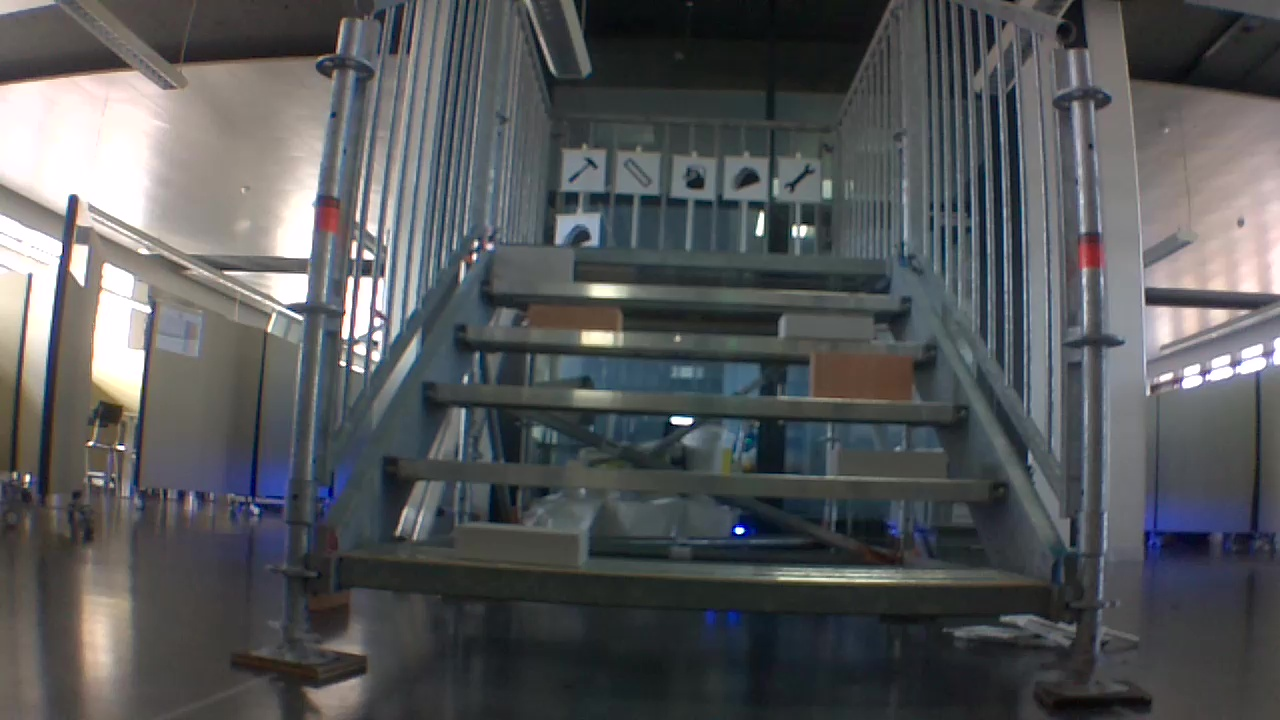brick: (457, 523, 587, 567), (810, 355, 911, 401), (827, 450, 948, 481), (778, 314, 873, 340), (499, 247, 571, 279), (532, 305, 621, 329)
bucket: (679, 163, 709, 193)
edge: (337, 557, 1049, 619), (379, 457, 1009, 512), (420, 381, 970, 425), (453, 325, 934, 363), (481, 279, 911, 313), (498, 245, 889, 275)
hammer: (563, 153, 597, 185)
ruler: (619, 156, 655, 190)
stairs: (230, 4, 1155, 713)
steps: (329, 237, 1065, 634)
taco: (731, 162, 763, 194), (560, 218, 592, 245)
wrench: (779, 162, 819, 196)
